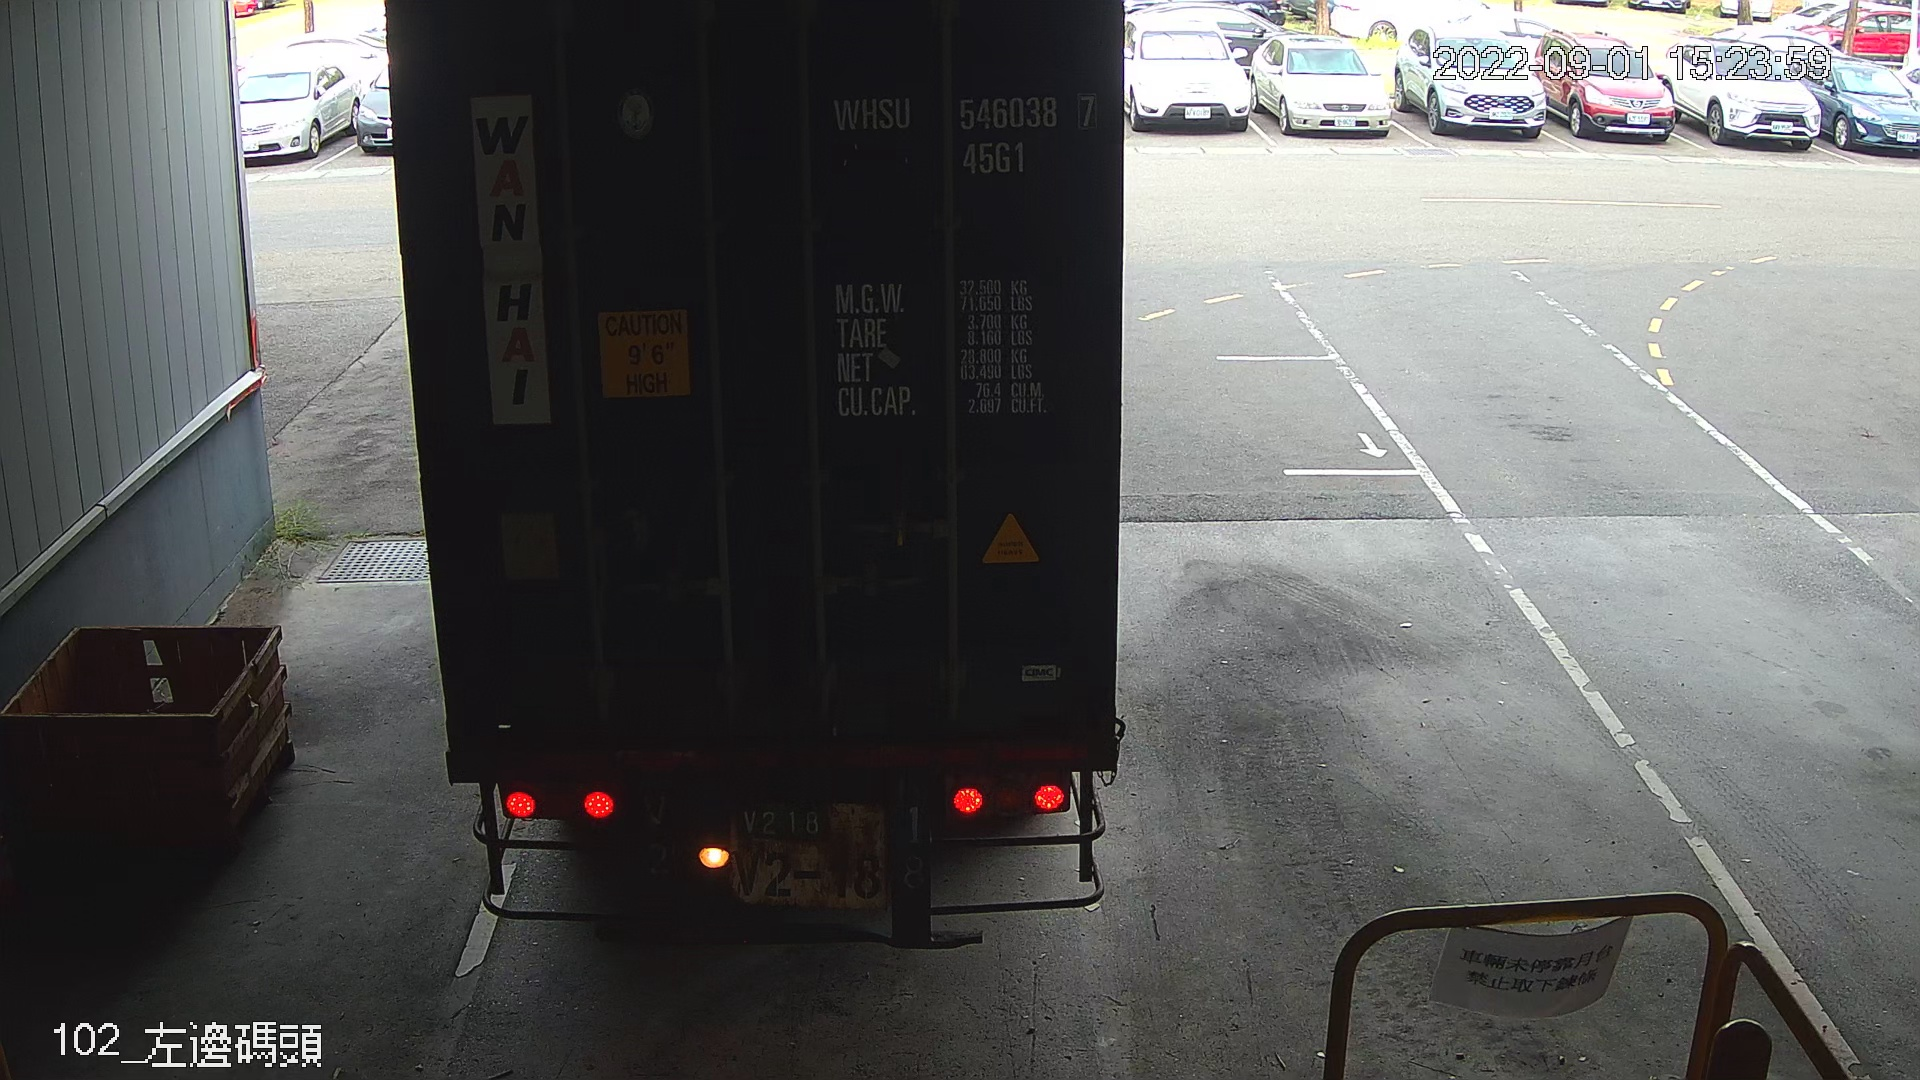container: (828, 83, 1104, 179)
